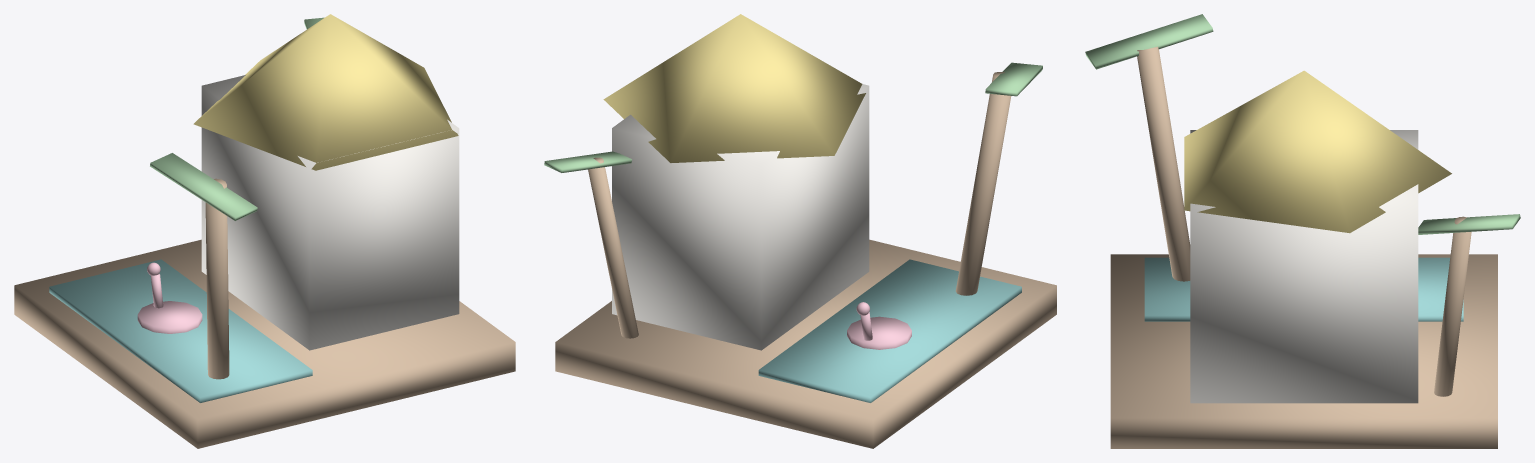
The model's file is beach_resort_lv3.glb.
3 renders of one model, left to right at view 1: azimuth 30°, elevation 25°; view 2: azimuth 150°, elevation 25°; view 3: azimuth 270°, elevation 25°, orthographic. The views are drawn at different scales.
Parts seen in each view (by area): view 1: bungalow_body, deck_main, bungalow_roof, pool, palm1, palm1_leaf, flamingo_ring; view 2: bungalow_body, deck_main, bungalow_roof, pool, palm1, palm2, flamingo_ring, palm1_leaf, palm2_leaf; view 3: bungalow_body, deck_main, bungalow_roof, palm1, pool, palm2, palm1_leaf, palm2_leaf.
Boxes of the visible parts, <box> form: bungalow_body: <box>201,75,459,350</box>; deck_main: <box>14,239,515,448</box>; bungalow_roof: <box>193,14,458,170</box>; pool: <box>49,259,312,402</box>; palm1: <box>205,178,229,379</box>; palm1_leaf: <box>150,153,257,220</box>; flamingo_ring: <box>137,301,202,333</box>; bungalow_body: <box>612,84,869,350</box>; deck_main: <box>555,239,1056,448</box>; bungalow_roof: <box>603,14,865,162</box>; pool: <box>758,259,1021,402</box>; palm1: <box>955,72,1011,295</box>; palm2: <box>588,157,638,338</box>; flamingo_ring: <box>847,316,911,349</box>; palm1_leaf: <box>985,62,1042,96</box>; palm2_leaf: <box>544,151,631,172</box>; bungalow_body: <box>1190,130,1418,403</box>; deck_main: <box>1110,254,1497,448</box>; bungalow_roof: <box>1184,70,1451,233</box>; palm1: <box>1137,46,1190,281</box>; pool: <box>1144,257,1463,321</box>; palm2: <box>1434,216,1471,396</box>; palm1_leaf: <box>1085,14,1213,69</box>; palm2_leaf: <box>1418,214,1520,234</box>.
Size of the model in its own units: 1.84 by 1.6 by 1.91.
